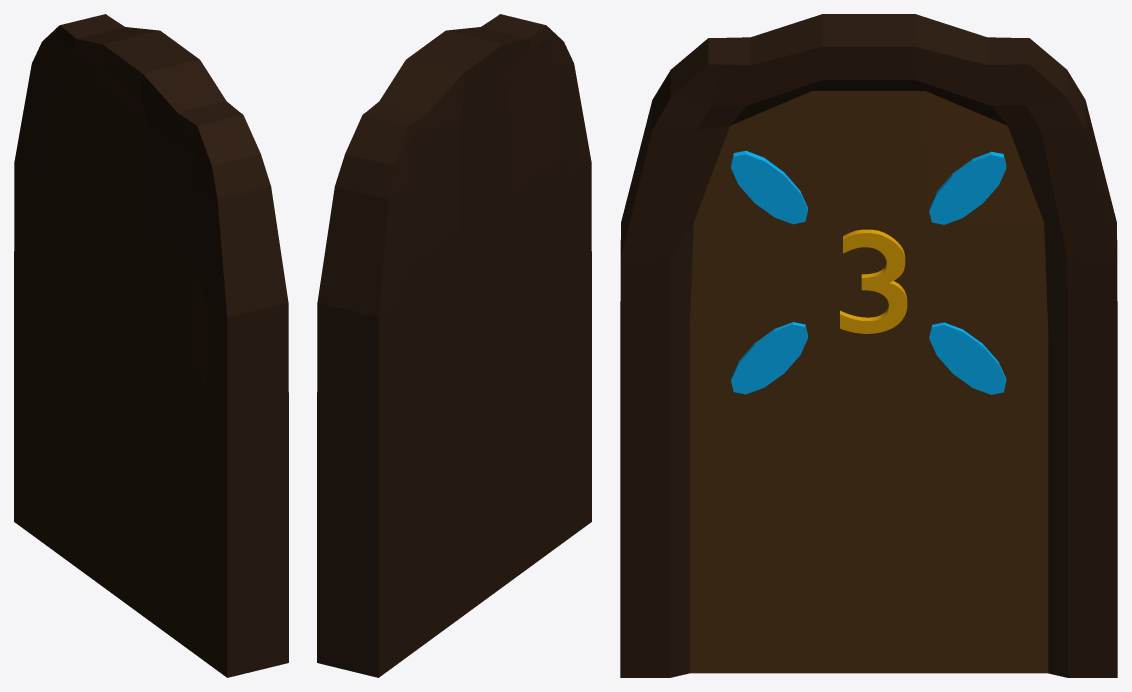
The model's file is Door3.glb.
3 views of the same model, side by side, from view 1: azimuth 30°, elevation 25°; view 2: azimuth 150°, elevation 25°; view 3: azimuth 270°, elevation 25° (orthographic). The views are drawn at different scales.
Parts seen in each view (by area): view 1: door1; view 2: door1; view 3: door1, Text.
Part boxes in pixels (left/top/right/bottom): door1: left=14, top=14, right=288, bottom=677; door1: left=317, top=14, right=591, bottom=677; door1: left=620, top=14, right=1117, bottom=677; Text: left=840, top=229, right=907, bottom=333.
Bounding box in the file's own units: 0.3892 × 3.27 × 2.34.
